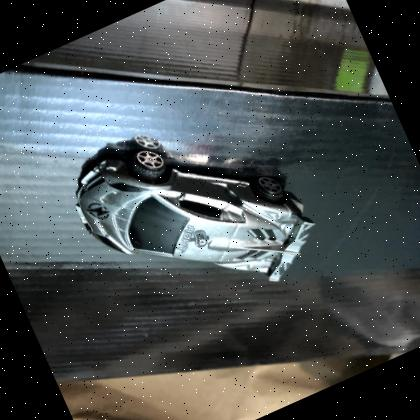Car: (76, 150, 313, 280)
